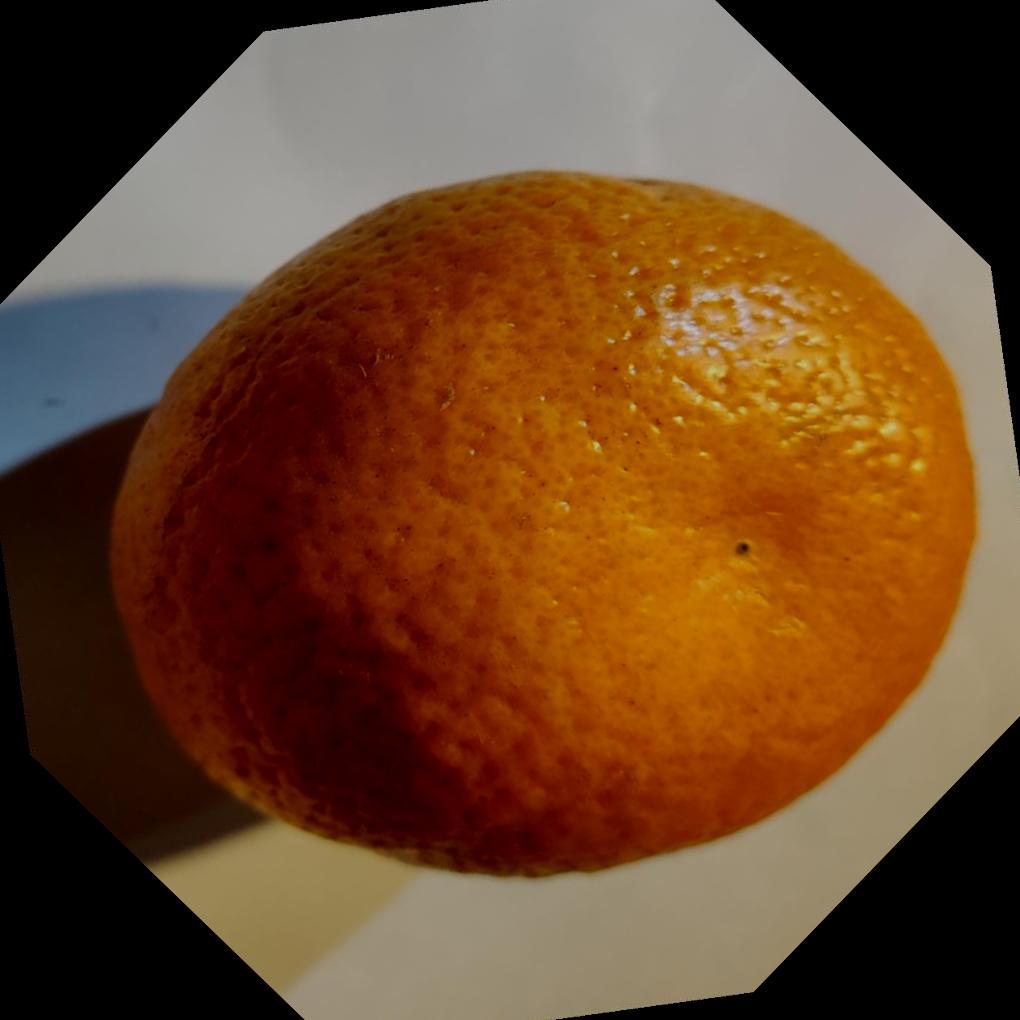FreshGuava: (108, 169, 982, 882)
